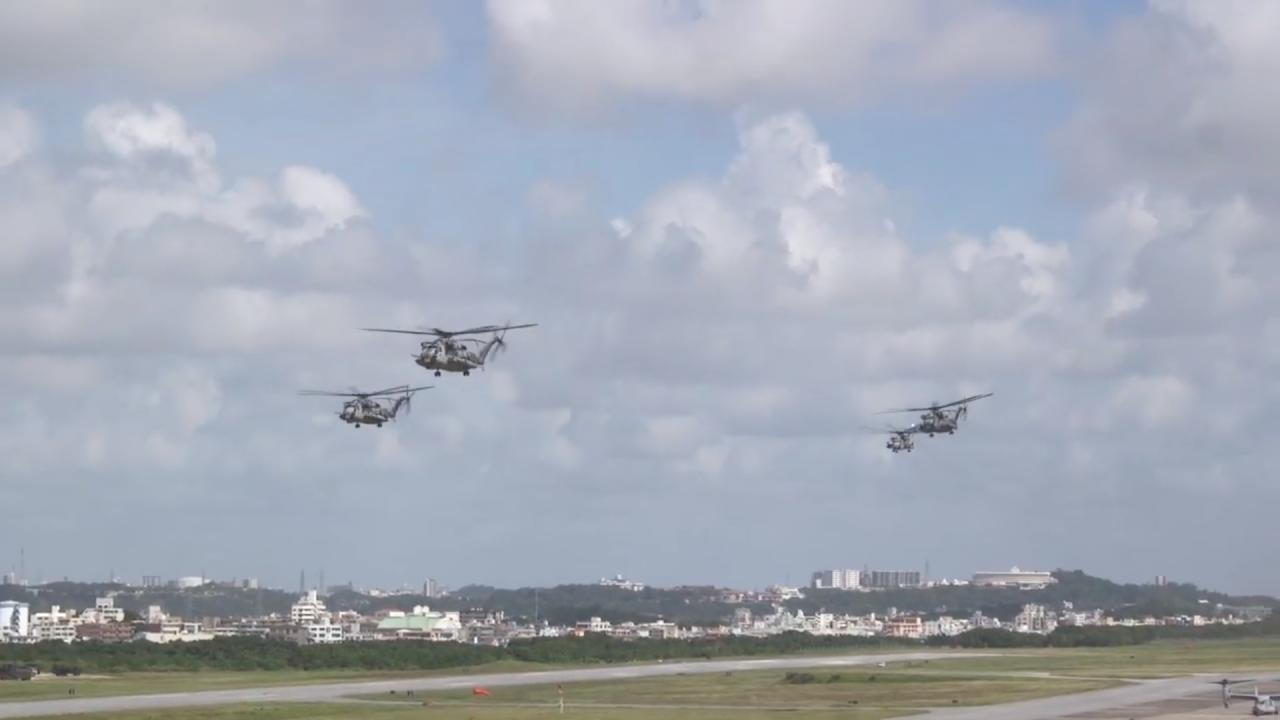Helicopter: (357, 298, 548, 395), (292, 363, 444, 453), (890, 378, 1002, 450), (856, 414, 947, 479)
